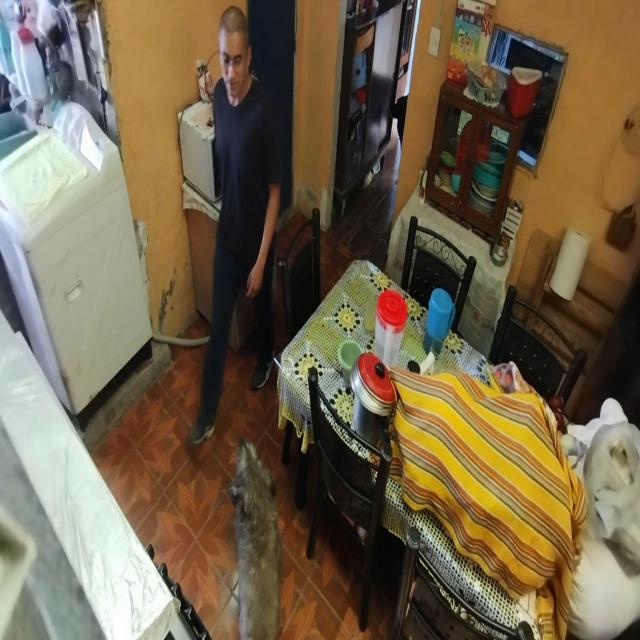adult: (186, 3, 283, 446)
